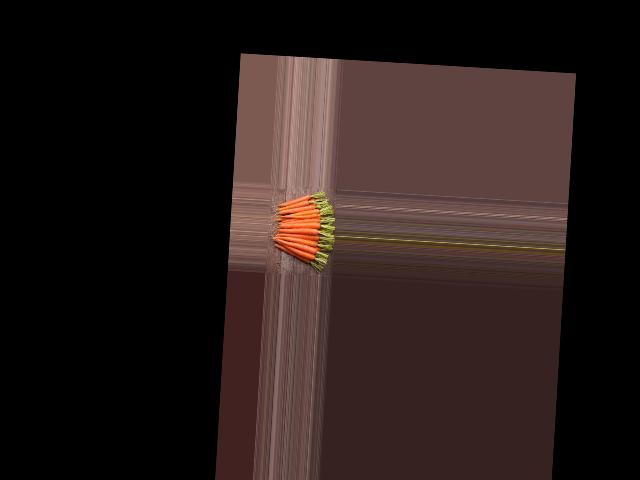carrot: (278, 193, 312, 201)
